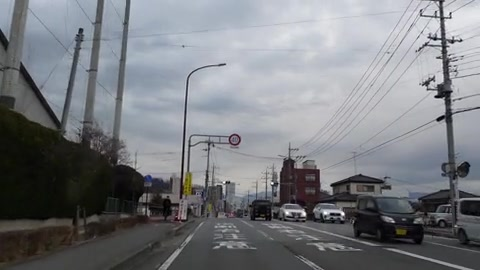traffic_sign: (228, 131, 243, 147)
